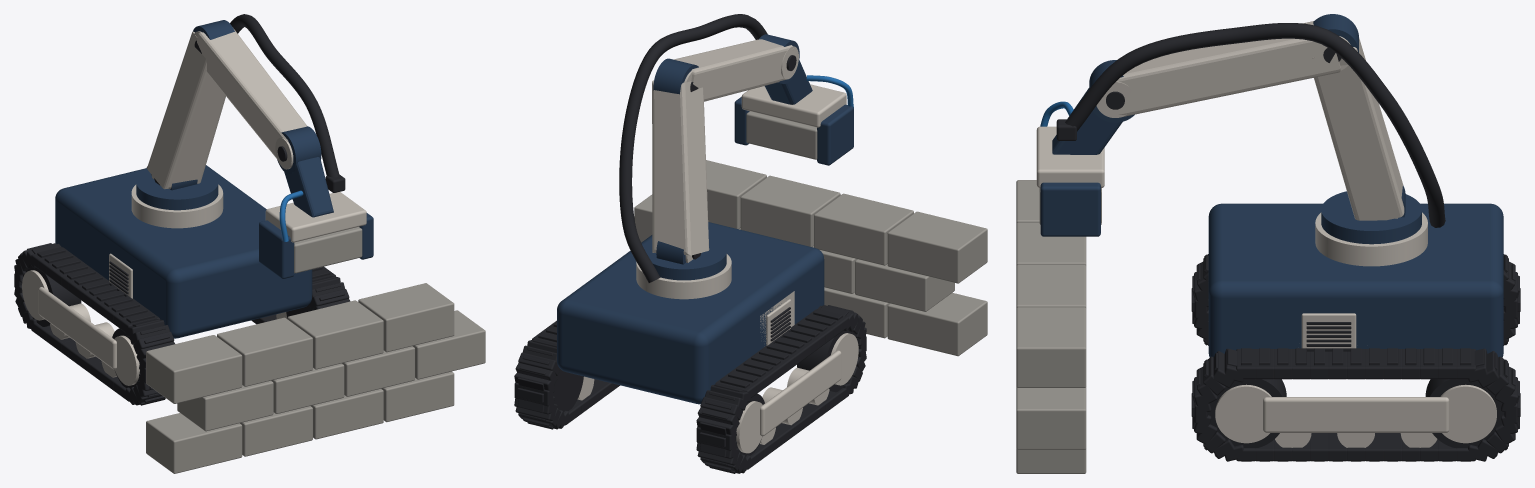
The model's file is robots-41.glb.
3 views of the same model, side by side, from view 1: azimuth 30°, elevation 25°; view 2: azimuth 150°, elevation 25°; view 3: azimuth 270°, elevation 25° (orthographic). The views are drawn at different scales.
Visible parts, largest first — view 1: wall, body, links, tracks, jaws, turn, rollers, cable, side, joints, block, vents; view 2: wall, body, tracks, links, cable, jaws, rollers, turn, side, joints, block, vents; view 3: body, tracks, links, wall, cable, rollers, side, turn, jaws, joints, vents.
Part boxes in pixels (box(x1,y1,x2,y2)): wall: box(146, 283, 485, 473); body: box(55, 165, 312, 338); links: box(147, 28, 333, 217); tracks: box(14, 243, 350, 405); jaws: box(259, 192, 373, 278); turn: box(131, 169, 223, 228); rollers: box(22, 266, 310, 389); cable: box(146, 14, 345, 192); side: box(38, 287, 116, 369); joints: box(151, 20, 321, 190); block: box(294, 227, 362, 273); vents: box(109, 253, 132, 298); wall: box(634, 160, 987, 356); body: box(557, 222, 824, 404); tracks: box(514, 305, 866, 473); links: box(652, 39, 812, 255); cable: box(619, 14, 767, 282); jaws: box(734, 84, 853, 165); rollers: box(553, 329, 858, 456); turn: box(636, 236, 731, 299); side: box(760, 350, 841, 436); joints: box(653, 34, 799, 264); block: box(746, 111, 817, 159); vents: box(766, 299, 790, 345); body: box(1208, 203, 1503, 357); tracks: box(1191, 254, 1520, 461); links: box(1052, 21, 1404, 220); wall: box(1016, 180, 1086, 473); cable: box(1056, 23, 1445, 227); rollers: box(1208, 307, 1504, 448); side: box(1263, 397, 1449, 432); turn: box(1315, 191, 1427, 266); jaws: box(1036, 126, 1104, 236); joints: box(1089, 14, 1405, 218); vents: box(1301, 313, 1356, 351).
Bounding box in the file's own units: 2.28 × 2.3 × 2.6.
